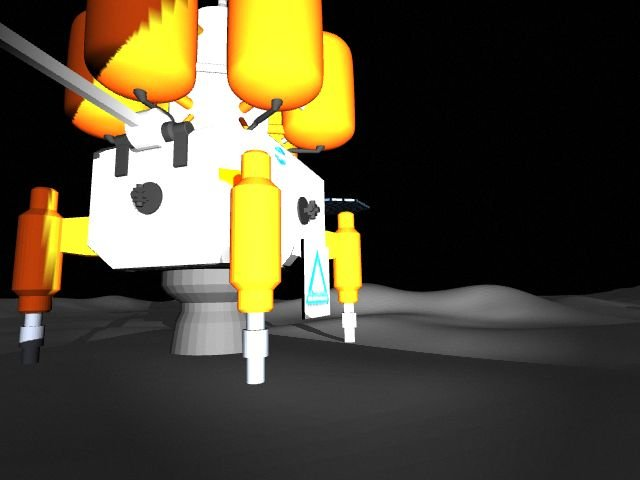basemarker: (306, 249, 331, 306)
